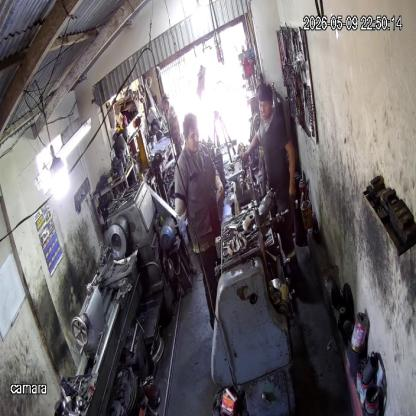sin_lentes: (259, 100, 269, 110)
